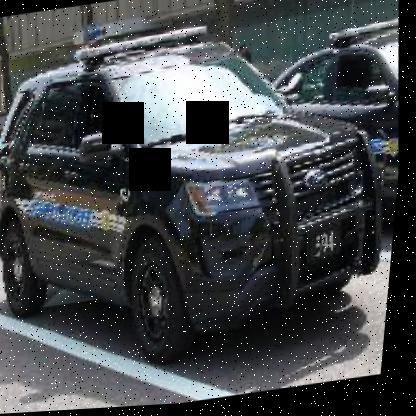emergency: (0, 4, 413, 393)
